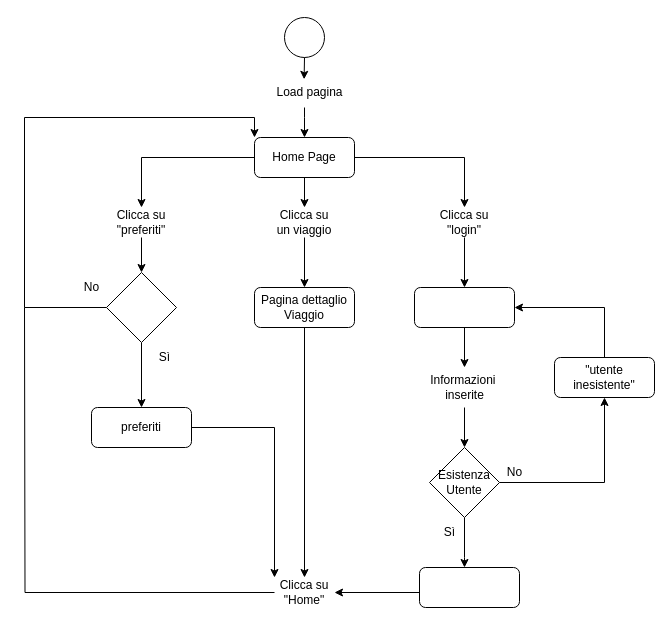
Image size: 672x625. Some labels were removed from this diagram. Here are the shapes that lost their labels. From the top down, the centre of each, then its label:
(141,307): login eseguito
(464,307): Login
(469,587): Dashboard privata
